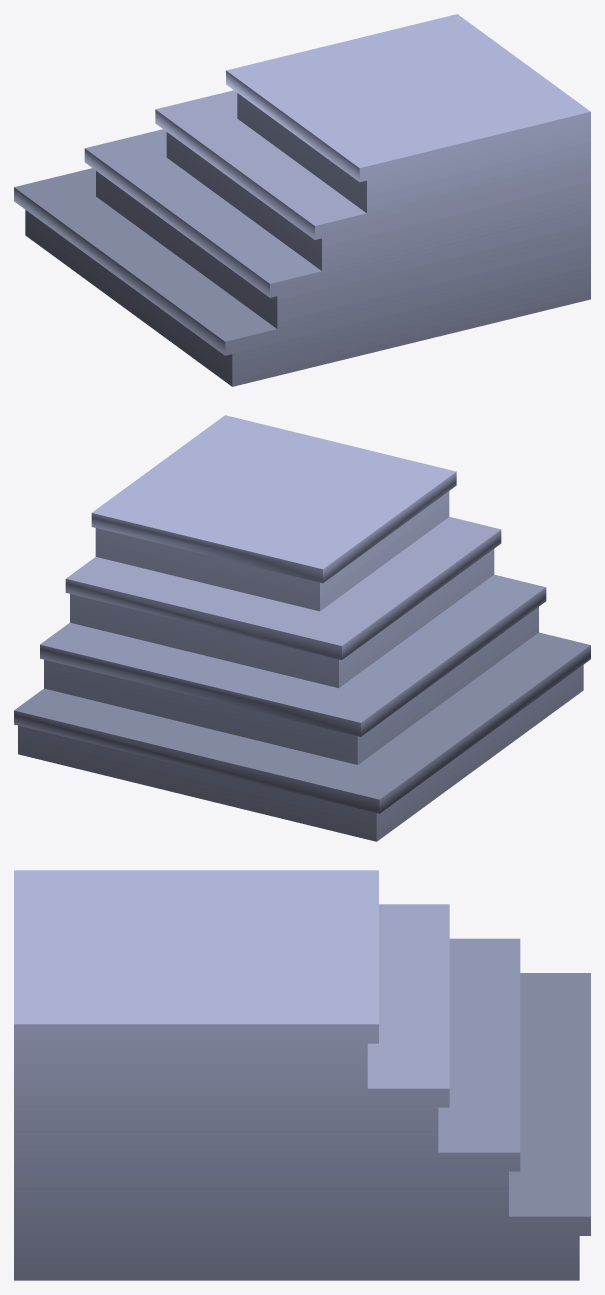
Rendered from stairs-full-corner-outer.fbx.
The picture shows the model from 3 angles, top to bottom: view 1: azimuth 30°, elevation 25°; view 2: azimuth 150°, elevation 25°; view 3: azimuth 270°, elevation 25°; orthographic projection. The views are drawn at different scales.
Parts seen in each view (by area): view 1: stairs-full-corner-outer; view 2: stairs-full-corner-outer; view 3: stairs-full-corner-outer.
Boxes of the visible parts, x1,y1,x2,y2 form: stairs-full-corner-outer: (14, 14, 590, 386); stairs-full-corner-outer: (14, 415, 590, 841); stairs-full-corner-outer: (14, 870, 590, 1280).
Size of the model in its own units: 102 by 50 by 102.
1 material, 1 textured.
